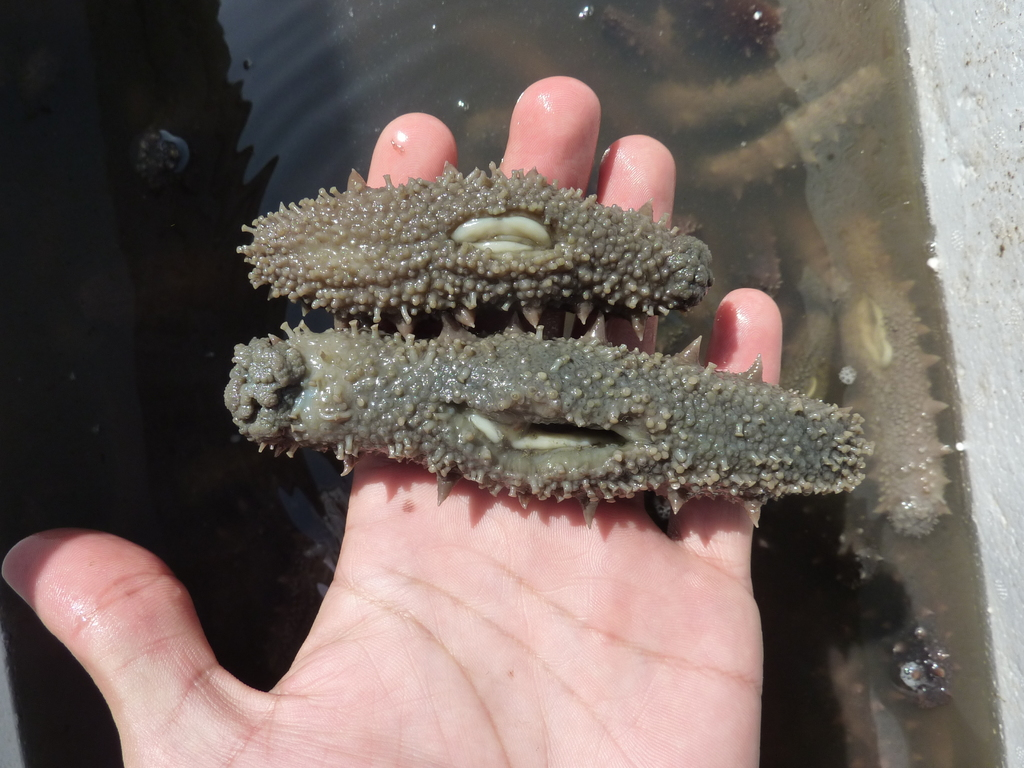Human_hand: (0, 68, 787, 767)
